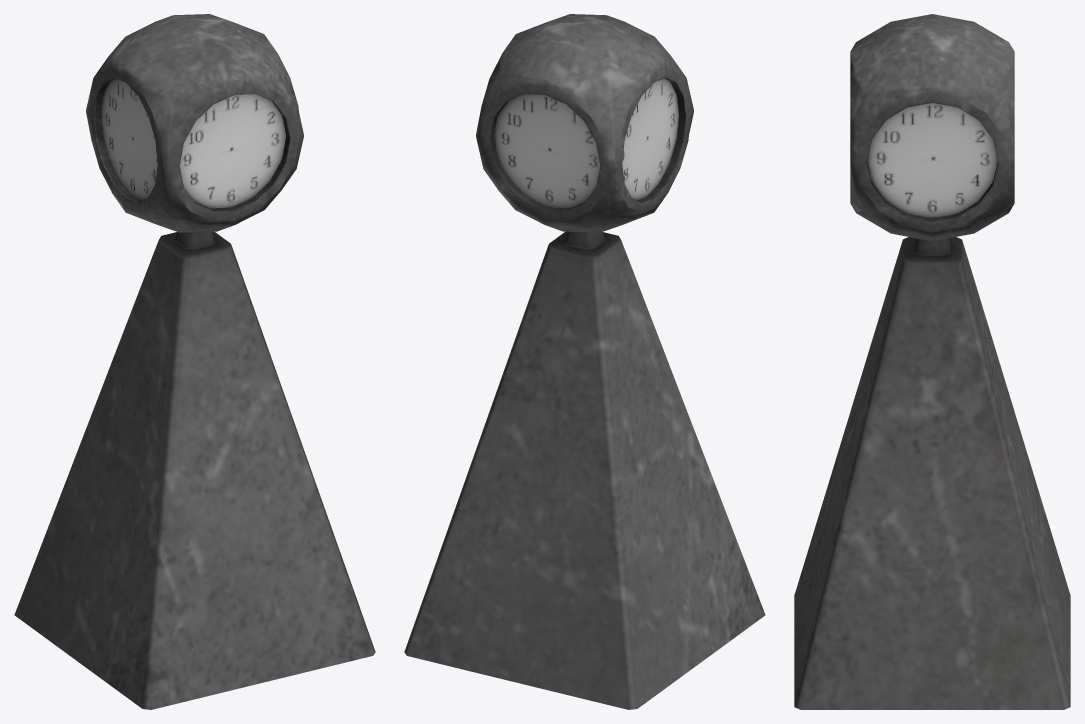
File: ClockTower.fbx
3 views of the same model, side by side, from view 1: azimuth 30°, elevation 25°; view 2: azimuth 150°, elevation 25°; view 3: azimuth 270°, elevation 25° (orthographic). The views are drawn at different scales.
Visible parts, largest first — view 1: clocktower; view 2: clocktower; view 3: clocktower.
Part boxes in pixels (x1=…): clocktower: x1=14, y1=14, x2=375, y2=709; clocktower: x1=404, y1=14, x2=765, y2=709; clocktower: x1=794, y1=14, x2=1070, y2=709.
Size of the model in its own units: 0.0442 by 0.1102 by 0.0442.
Materials: 1 (1 with a texture image).
